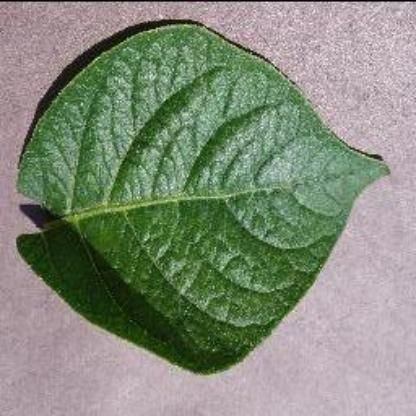Healthy-plant: (12, 19, 390, 375)
